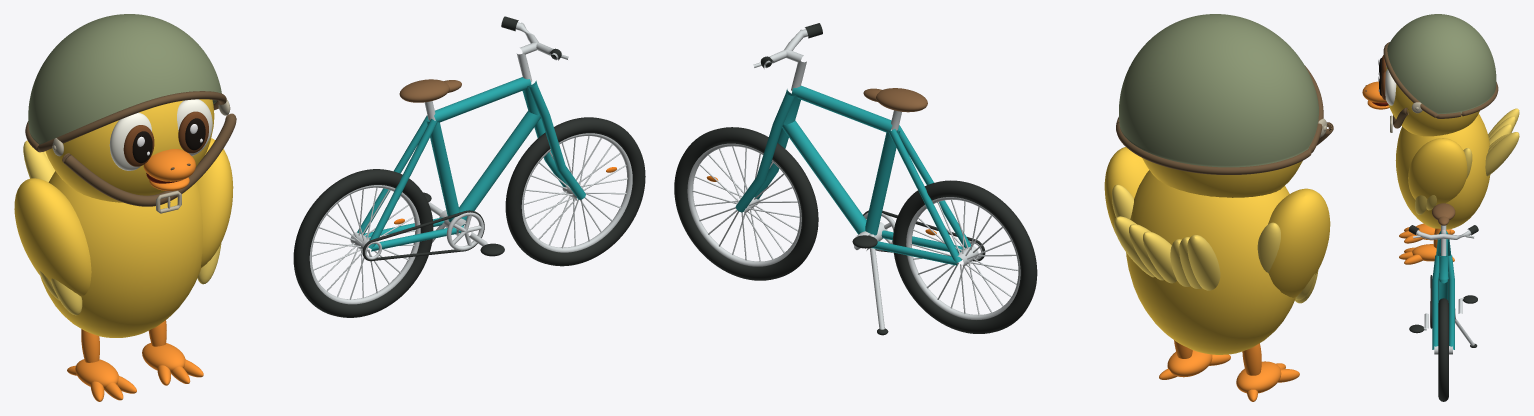
File: kyckling-cykel.glb
The picture shows the model from 3 angles, left to right: view 1: azimuth 30°, elevation 25°; view 2: azimuth 150°, elevation 25°; view 3: azimuth 270°, elevation 25°; orthographic projection. The views are drawn at different scales.
Visible parts, largest first — view 1: Kropp, Hjalm - separat skal, Vanster vinge, Cykel - framhjul dack, Cykel - bakhjul dack, Huvud, Hoger vinge, Hakrem, Hjalmens vadderade kant, Cykel - underror, Cykel - framhjul falg, Cykel - bakhjul falg (+17 smaller); view 2: Hjalm - separat skal, Kropp, Cykel - framhjul dack, Cykel - bakhjul dack, Vanster vinge, Huvud, Hjalmens vadderade kant, Cykel - underror, Hoger vinge, Cykel - framhjul falg, Cykel - bakhjul falg, Cykel - overror (+14 smaller); view 3: Hjalm - separat skal, Kropp, Hoger vinge, Huvud, Cykel - framhjul dack, Hjalmens vadderade kant, Hoger stjartfjader 2, Cykel - framgaffel 1, Cykel - framgaffel -1, Overnabb, Hoger fot, Hoger ogonvita (+12 smaller).
Part boxes in pixels (box(x1,y1,x2,y2)): Kropp: box(40, 171, 202, 337); Hjalm - separat skal: box(28, 14, 221, 144); Vanster vinge: box(14, 178, 91, 297); Cykel - framhjul dack: box(505, 117, 645, 266); Cykel - bakhjul dack: box(293, 169, 433, 317); Huvud: box(45, 99, 214, 202); Hoger vinge: box(197, 138, 233, 267); Hakrem: box(62, 113, 236, 206); Hjalmens vadderade kant: box(25, 91, 226, 152); Cykel - underror: box(459, 111, 540, 226); Cykel - framhjul falg: box(521, 133, 632, 252); Cykel - bakhjul falg: box(309, 185, 420, 304); Hjalm - separat skal: box(1119, 14, 1318, 167); Kropp: box(1126, 170, 1295, 354); Cykel - framhjul dack: box(674, 127, 818, 280); Cykel - bakhjul dack: box(893, 180, 1037, 333); Vanster vinge: box(1268, 188, 1330, 297); Huvud: box(1142, 158, 1302, 197); Hjalmens vadderade kant: box(1116, 66, 1323, 174); Cykel - underror: box(782, 120, 866, 234); Hoger vinge: box(1104, 147, 1148, 235); Cykel - framhjul falg: box(687, 143, 801, 266); Cykel - bakhjul falg: box(906, 197, 1020, 319); Cykel - overror: box(792, 85, 892, 132); Hjalm - separat skal: box(1387, 14, 1496, 114); Kropp: box(1395, 114, 1490, 229); Hoger vinge: box(1408, 138, 1467, 205); Huvud: box(1385, 66, 1479, 136); Cykel - framhjul dack: box(1438, 298, 1448, 401); Hjalmens vadderade kant: box(1383, 42, 1498, 118); Hoger stjartfjader 2: box(1485, 132, 1519, 176); Cykel - framgaffel 1: box(1432, 255, 1441, 349); Cykel - framgaffel -1: box(1446, 255, 1454, 349); Overnabb: box(1362, 81, 1386, 102); Hoger fot: box(1412, 244, 1436, 261); Hoger ogonvita: box(1385, 69, 1396, 105).
Bounding box in the file's own units: 5.81 × 3.16 × 1.94.
